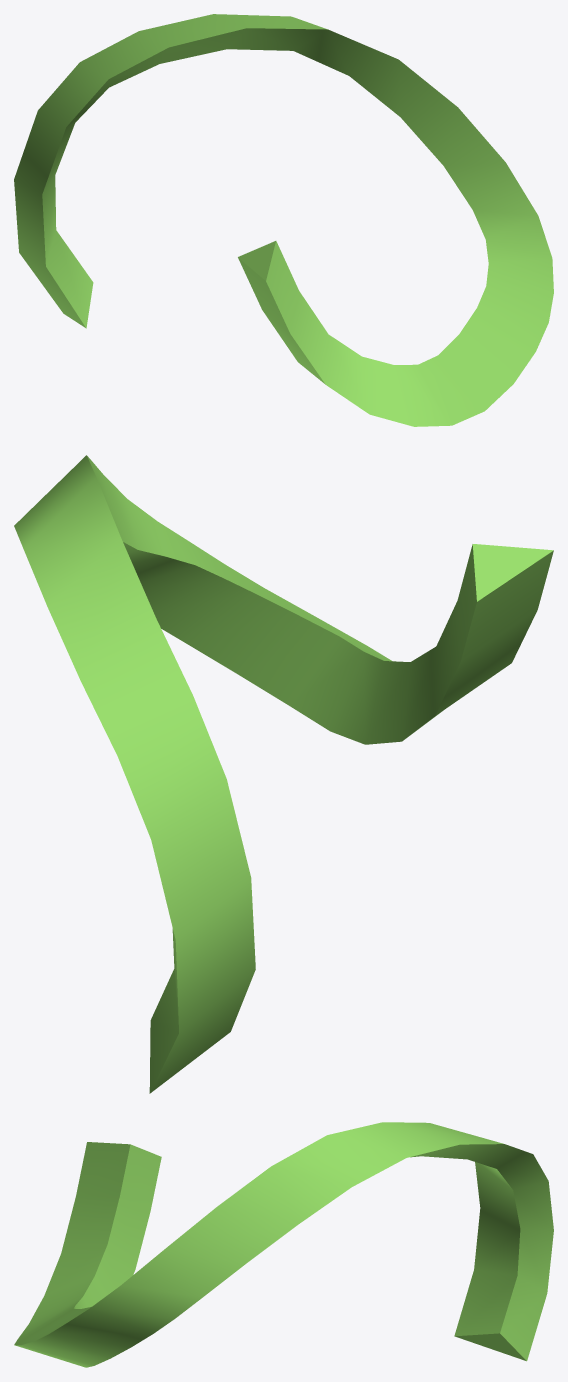
The model's file is lianas_N.fbx.
3 views of the same model, one above another, from view 1: azimuth 30°, elevation 25°; view 2: azimuth 150°, elevation 25°; view 3: azimuth 270°, elevation 25° (orthographic). The views are drawn at different scales.
Parts seen in each view (by area): view 1: liana_N_thick, liana_N; view 2: liana_N_thick, liana_N; view 3: liana_N_thick, liana_N.
Boxes of the visible parts, bbox=[...] form: liana_N_thick: bbox=[22, 16, 553, 426]; liana_N: bbox=[14, 14, 291, 302]; liana_N_thick: bbox=[14, 455, 553, 1093]; liana_N: bbox=[24, 508, 442, 1036]; liana_N_thick: bbox=[14, 1122, 553, 1367]; liana_N: bbox=[14, 1122, 490, 1367].
Bounding box in the file's own units: 16.66 × 17.38 × 29.15.
